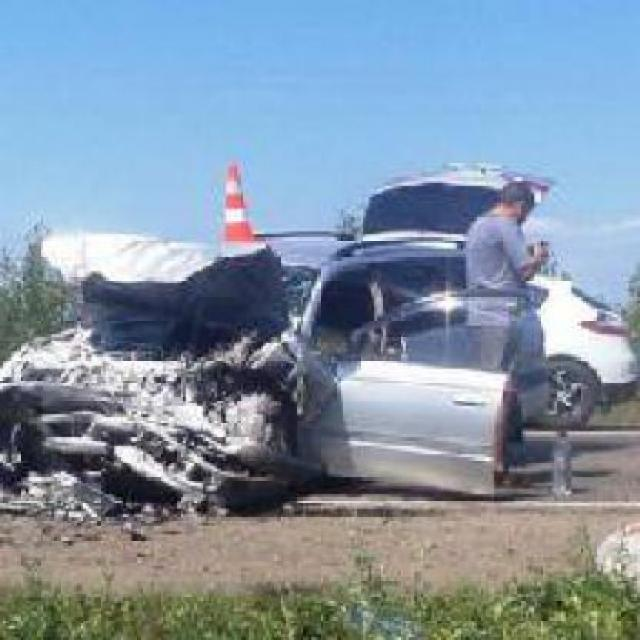damaged-hood: (38, 231, 270, 384)
